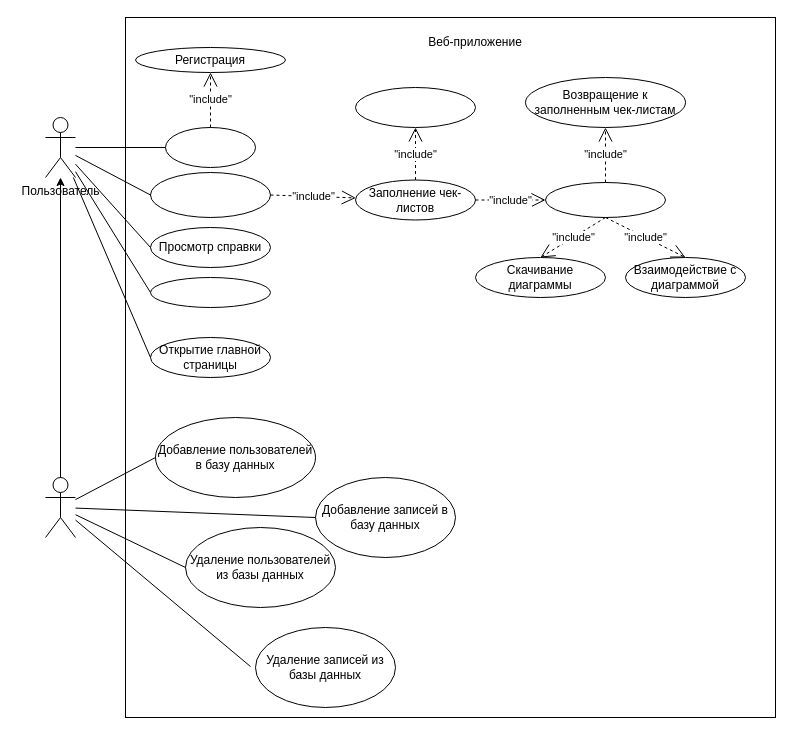
Image size: 793x735. Some labels were removed from this diagram. Here are the shapes that lost their labels. From the top down, the box of each, then its label:
(354, 86, 476, 128): Возвращение к выбору цикла
(164, 126, 256, 168): Вход
(150, 172, 270, 218): Выбор цикла
(544, 182, 666, 218): Просмотр результатов
(150, 276, 270, 308): Выход
(44, 476, 76, 538): Администратор
